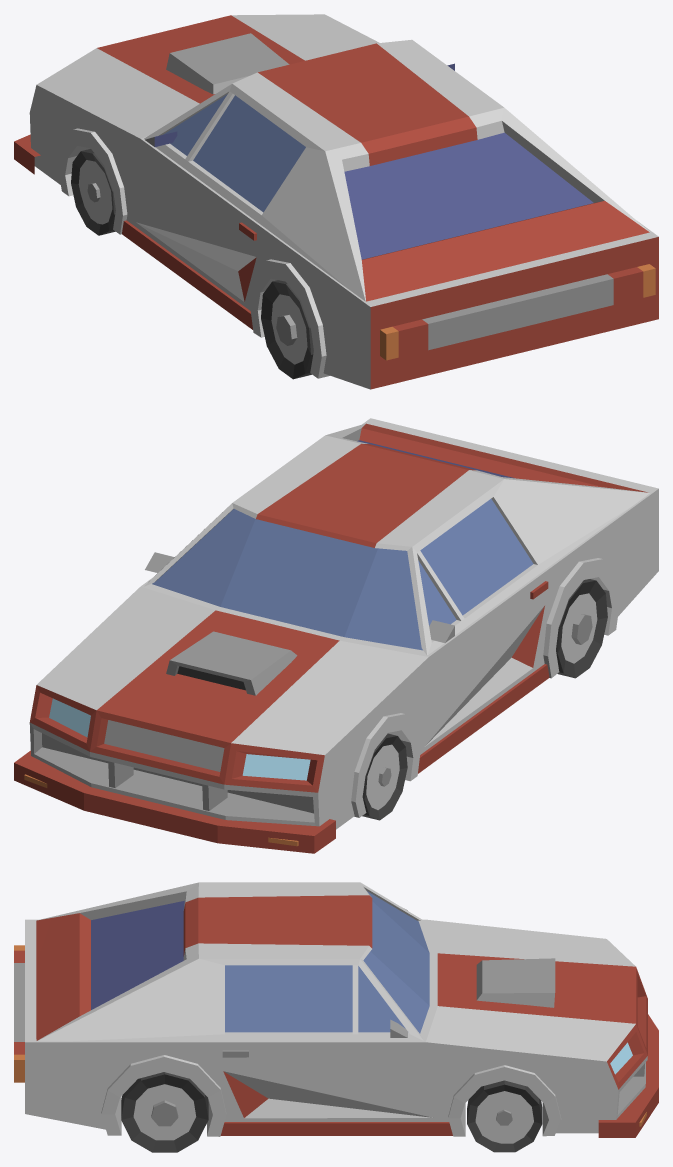
The model's file is car2.glb.
3 renders of one model, top to bottom at view 1: azimuth 30°, elevation 25°; view 2: azimuth 150°, elevation 25°; view 3: azimuth 270°, elevation 25°, orthographic. The views are drawn at different scales.
Parts seen in each view (by area): view 1: huitugou_2443_2624; view 2: huitugou_2443_2624; view 3: huitugou_2443_2624.
Part boxes in pixels (left/top/right/bottom): huitugou_2443_2624: left=14, top=14, right=658, bottom=389; huitugou_2443_2624: left=14, top=418, right=658, bottom=853; huitugou_2443_2624: left=14, top=882, right=658, bottom=1152.
Size of the model in its own units: 0.6553 by 0.4046 by 1.4.
1 material, 1 textured.
